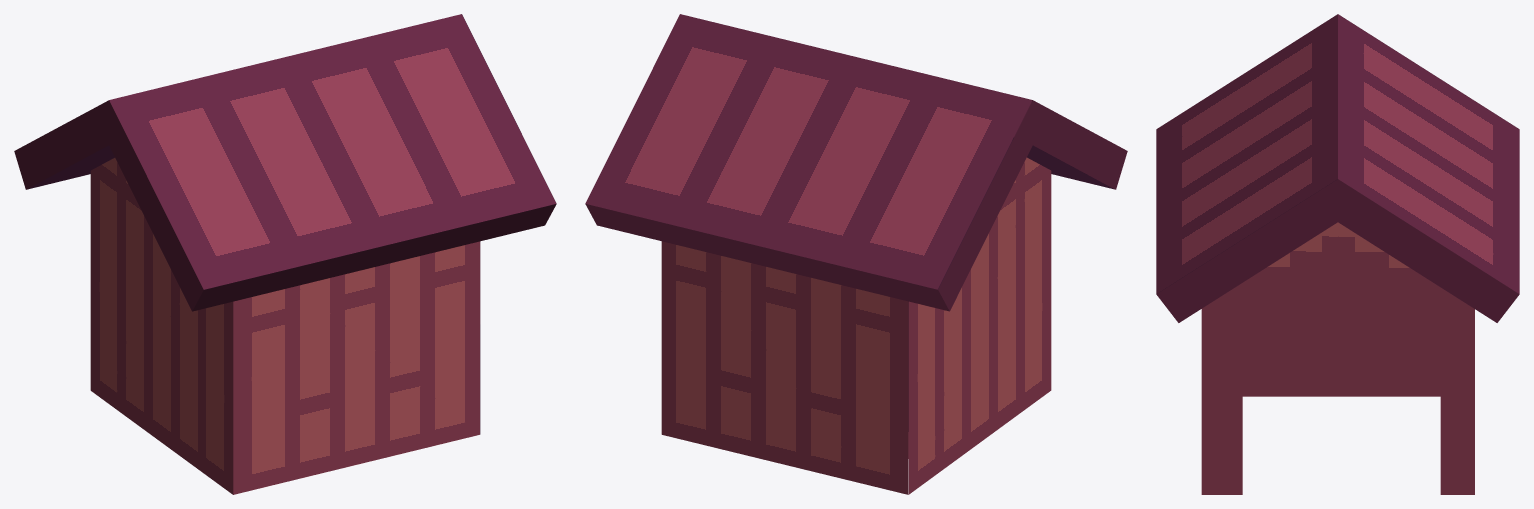
The model's file is Cabin.fbx.
The picture shows the model from 3 angles, left to right: view 1: azimuth 30°, elevation 25°; view 2: azimuth 150°, elevation 25°; view 3: azimuth 270°, elevation 25°; orthographic projection. The views are drawn at different scales.
Parts seen in each view (by area): view 1: Cube; view 2: Cube; view 3: Cube.
Part boxes in pixels (left/top/right/bottom): Cube: left=14, top=14, right=556, bottom=494; Cube: left=585, top=14, right=1127, bottom=494; Cube: left=1156, top=14, right=1519, bottom=494.
Size of the model in its own units: 200 by 193 by 186.
